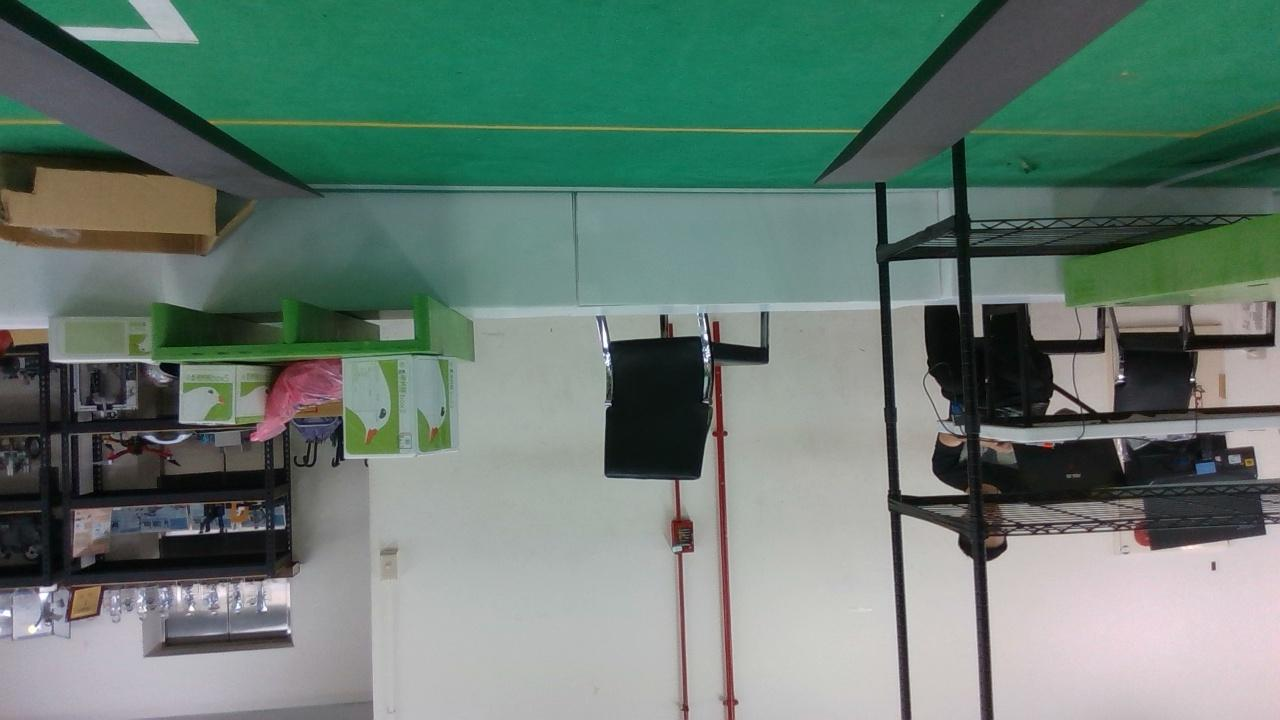Pallet: (151, 295, 430, 361)
